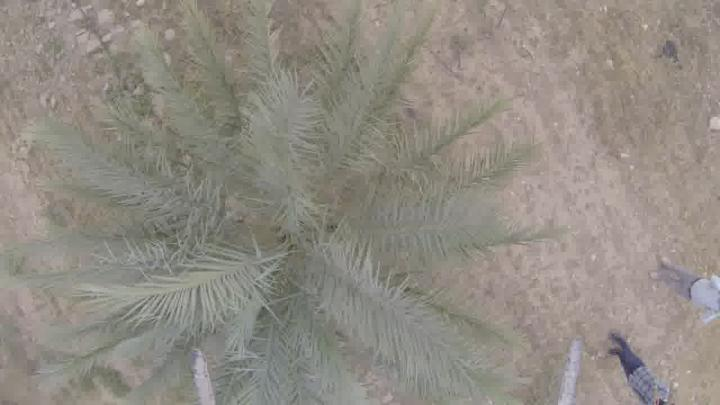Date-Palm-Crown: (151, 89, 445, 373)
